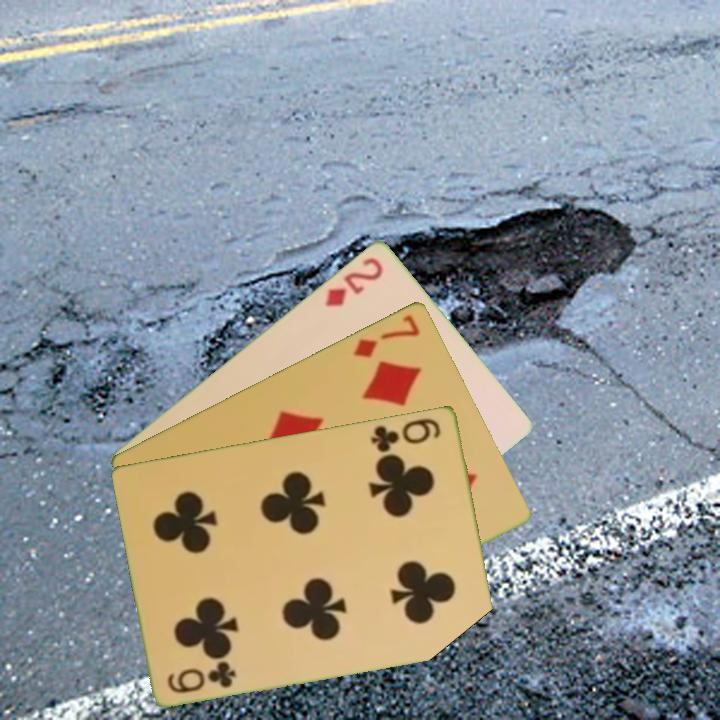2d: (322, 253, 386, 310)
6c: (367, 414, 444, 455), (164, 658, 240, 696)
7d: (349, 310, 423, 361)
